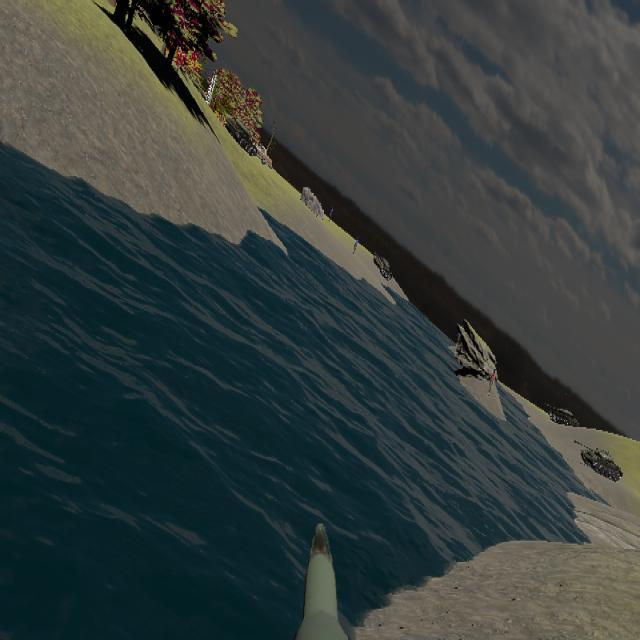Tank: (572, 439, 623, 482), (225, 116, 259, 153), (542, 404, 580, 428), (373, 251, 393, 280)
car: (246, 141, 272, 169)
